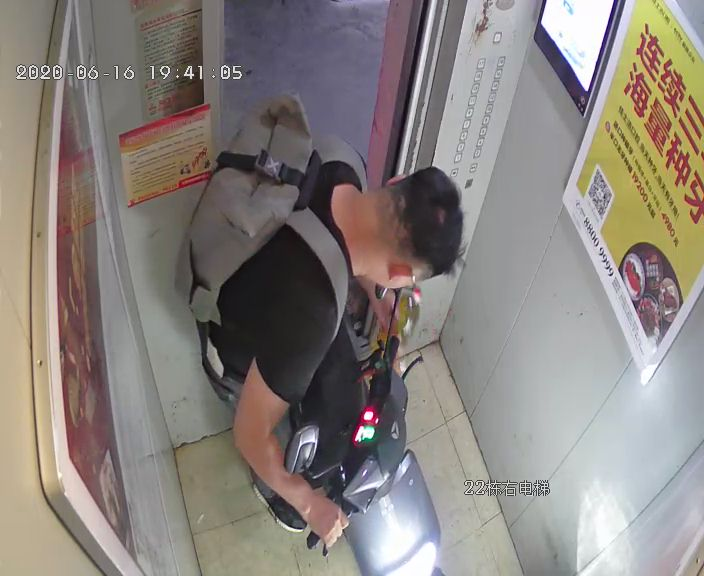Electric-bicycle: (305, 318, 444, 576)
